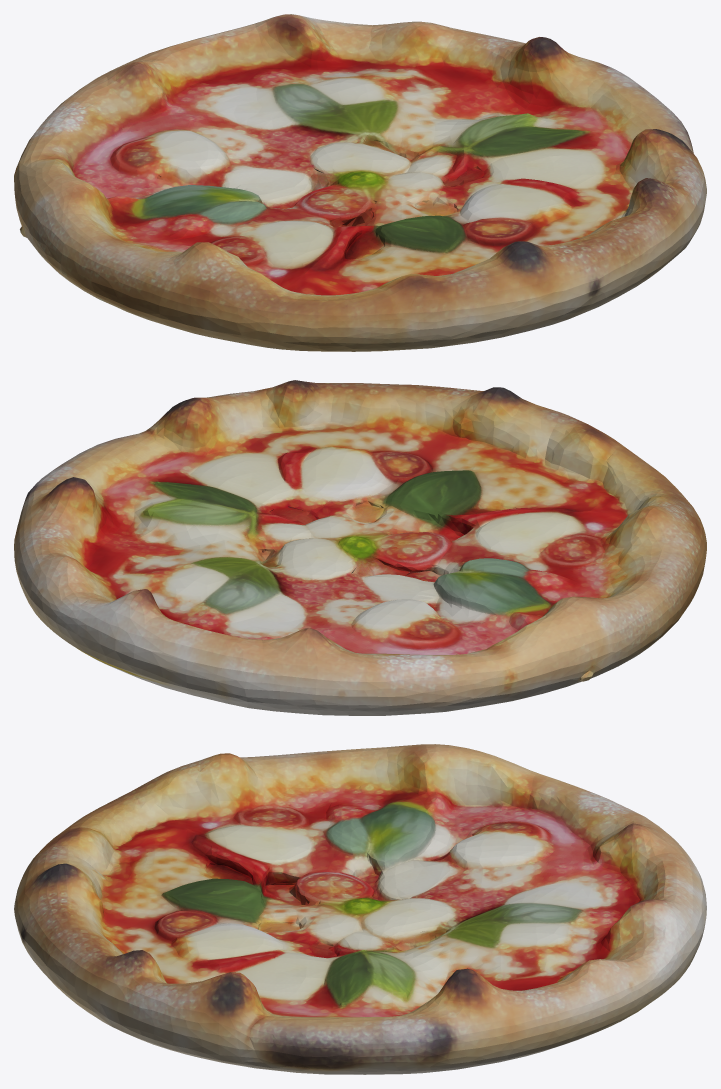
File: realistic_pizza.glb
3 views of the same model, one above another, from view 1: azimuth 30°, elevation 25°; view 2: azimuth 150°, elevation 25°; view 3: azimuth 270°, elevation 25° (orthographic).
Parts seen in each view (by area): view 1: world; view 2: world; view 3: world.
Part boxes in pixels (x1,y1,x2,y2): world: [14, 14, 706, 351]; world: [14, 380, 706, 715]; world: [14, 744, 706, 1074].
Bounding box in the file's own units: 0.9984 × 0.1308 × 0.9979.
1 material, 1 textured.
